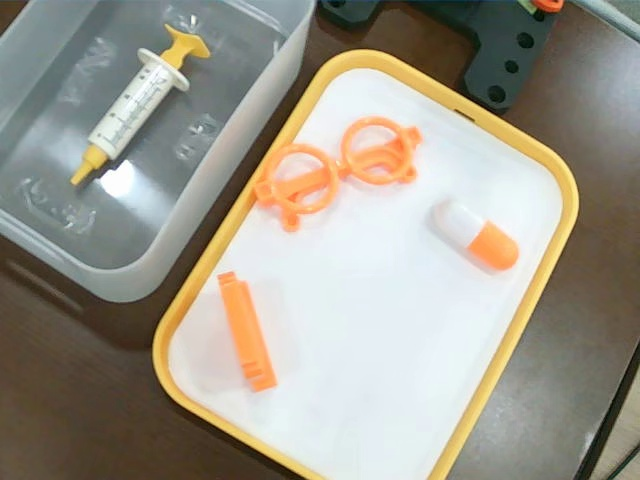pill: (433, 198, 522, 272)
syringe: (69, 23, 213, 186)
